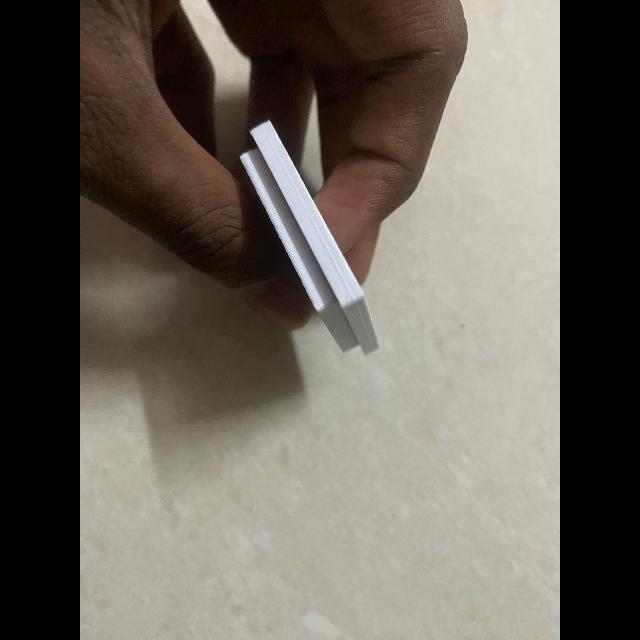RASPBERY PI CAM ENCLOSURE: (239, 119, 379, 355)
